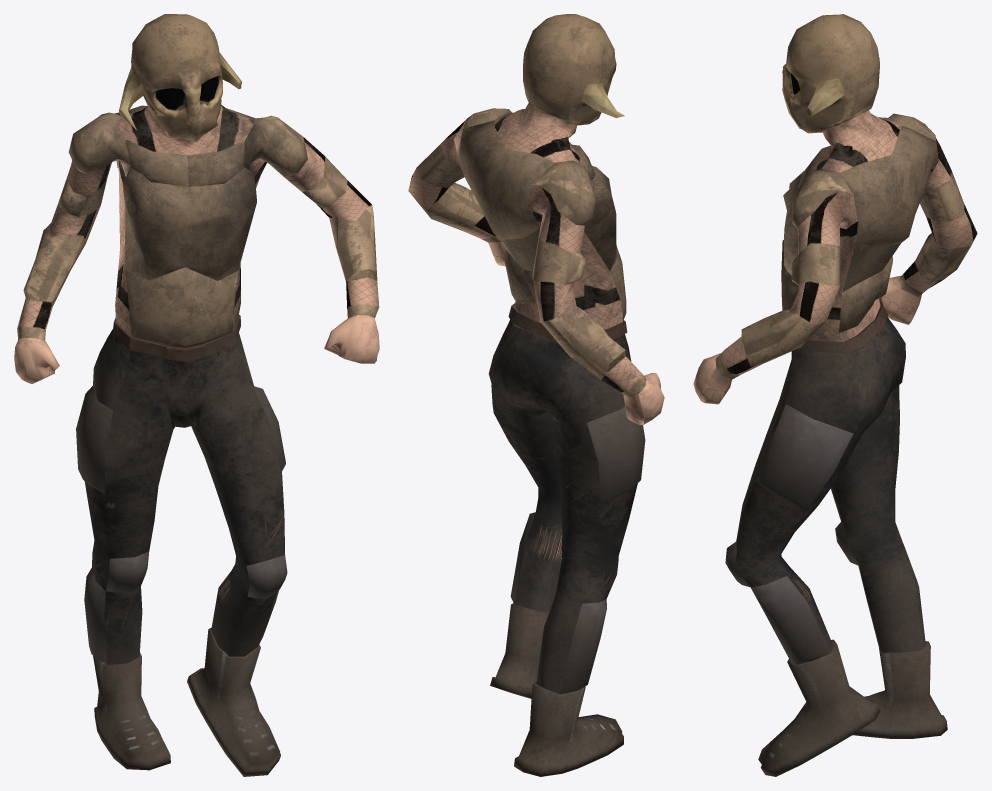
Rendered from Anim_ataque_f1_npc1.0011.obj.
The picture shows the model from 3 angles, left to right: view 1: azimuth 30°, elevation 25°; view 2: azimuth 150°, elevation 25°; view 3: azimuth 270°, elevation 25°; orthographic projection. The views are drawn at different scales.
Visible parts, largest first — view 1: NPC2; view 2: NPC2; view 3: NPC2.
Part boxes in pixels (left/top/right/bottom): NPC2: left=14, top=14, right=379, bottom=776; NPC2: left=408, top=14, right=664, bottom=776; NPC2: left=693, top=14, right=977, bottom=776.
Size of the model in its own units: 4.09 by 9.58 by 3.38.
